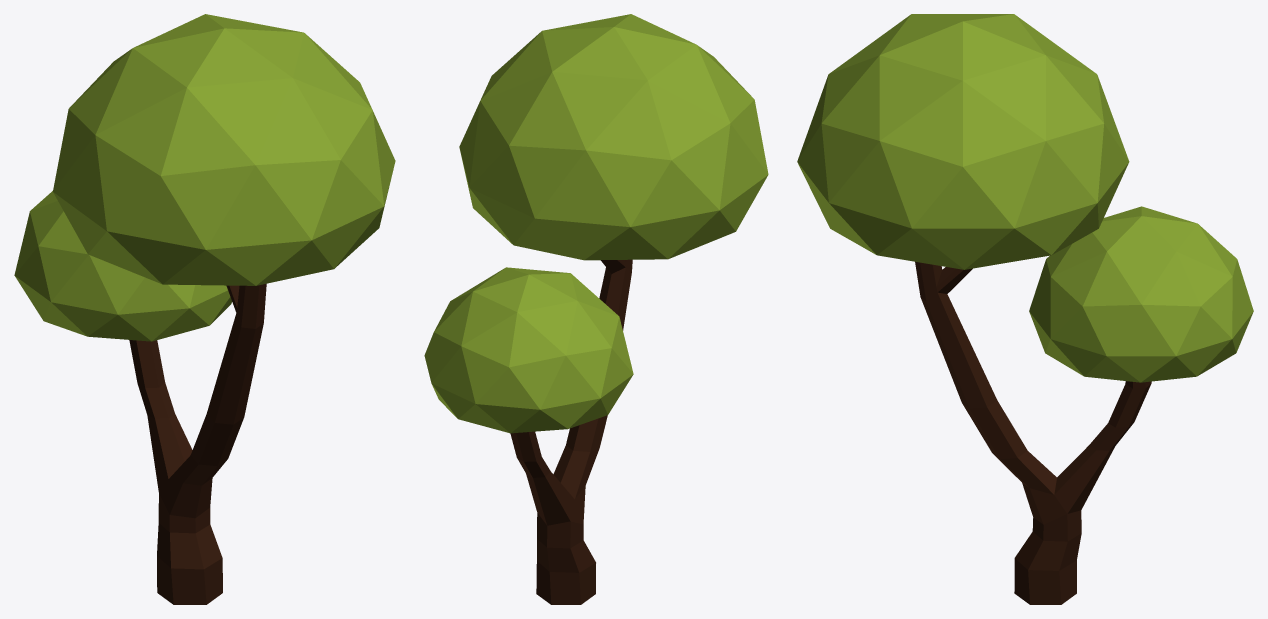
File: Tree1.obj
3 views of the same model, side by side, from view 1: azimuth 30°, elevation 25°; view 2: azimuth 150°, elevation 25°; view 3: azimuth 270°, elevation 25° (orthographic). The views are drawn at different scales.
Parts seen in each view (by area): view 1: Tree1; view 2: Tree1; view 3: Tree1.
Boxes of the visible parts, box(x1,y1,x2,y2) form: Tree1: box(14, 14, 395, 604); Tree1: box(424, 14, 768, 604); Tree1: box(797, 14, 1253, 604).
Size of the model in its own units: 2.07 by 4.1 by 2.99.
